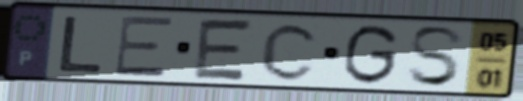C: (258, 20, 323, 83)
E: (189, 17, 258, 83), (113, 15, 176, 79)
G: (340, 23, 402, 87)
L: (55, 13, 107, 75)
S: (404, 25, 469, 90)
